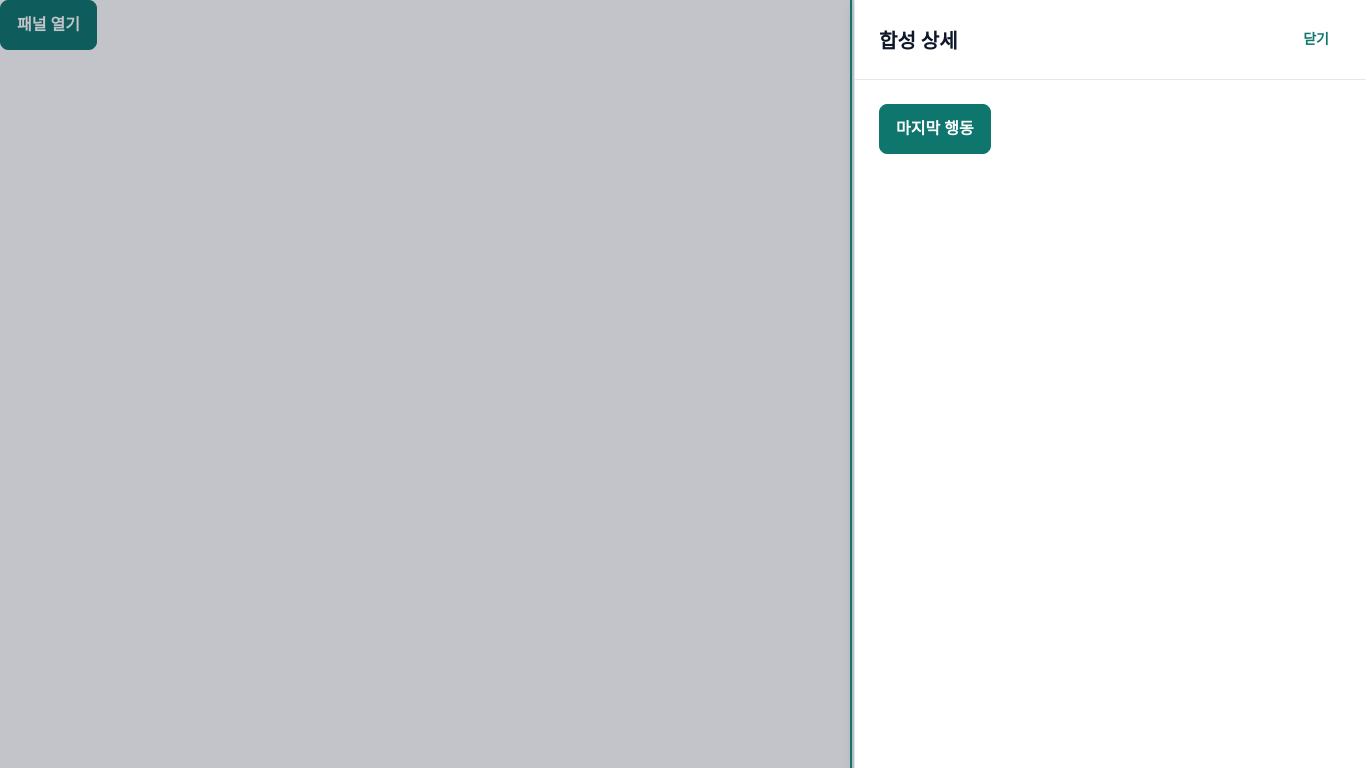
Scenario: focuses the open panel, traps Tab in both directions and restores its opener after Escape
Earlier steps of the test are not shown.
Press Tab in the dialog "합성 상세", box [854, 0, 1365, 767]
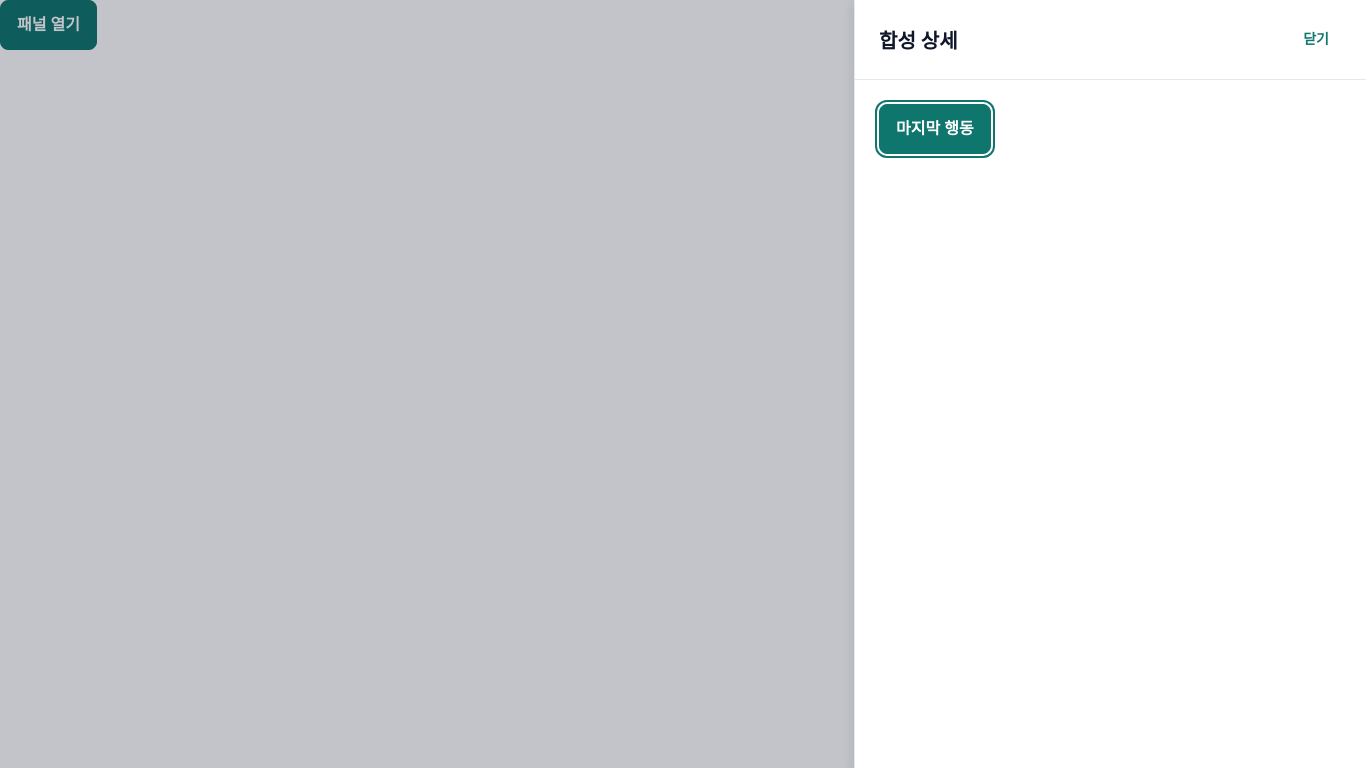
Press Tab in the button "마지막 행동", box [879, 104, 991, 154]
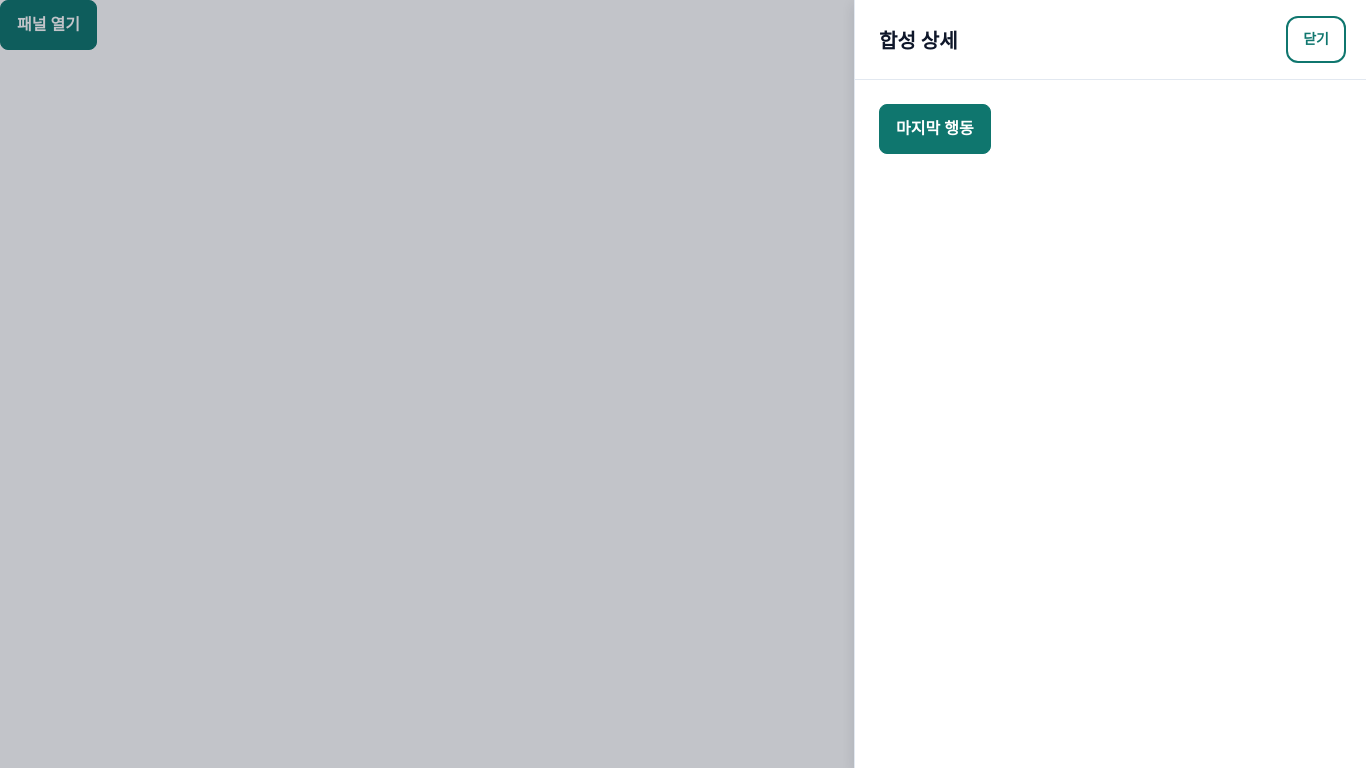
Press Tab in the button "닫기", box [1290, 20, 1342, 59]
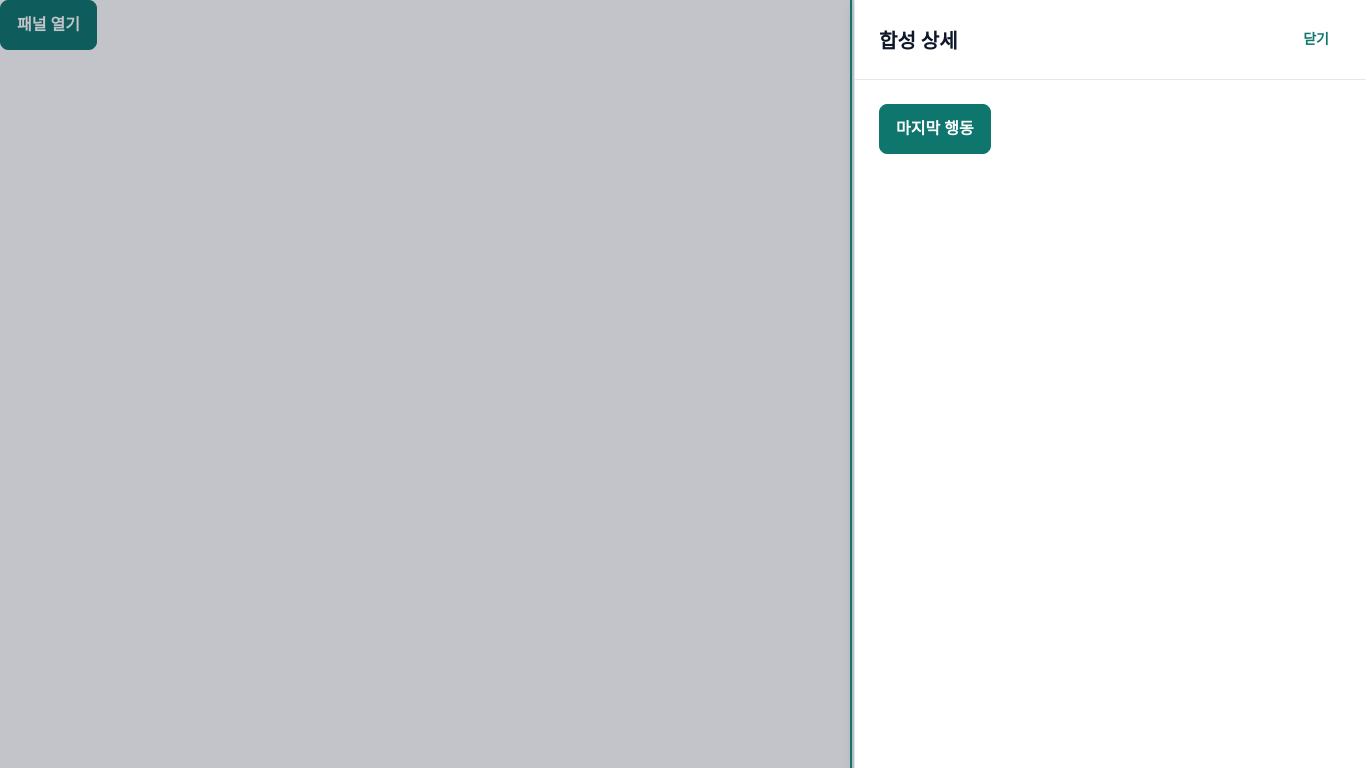
Press Escape in the dialog "합성 상세", box [854, 0, 1365, 767]
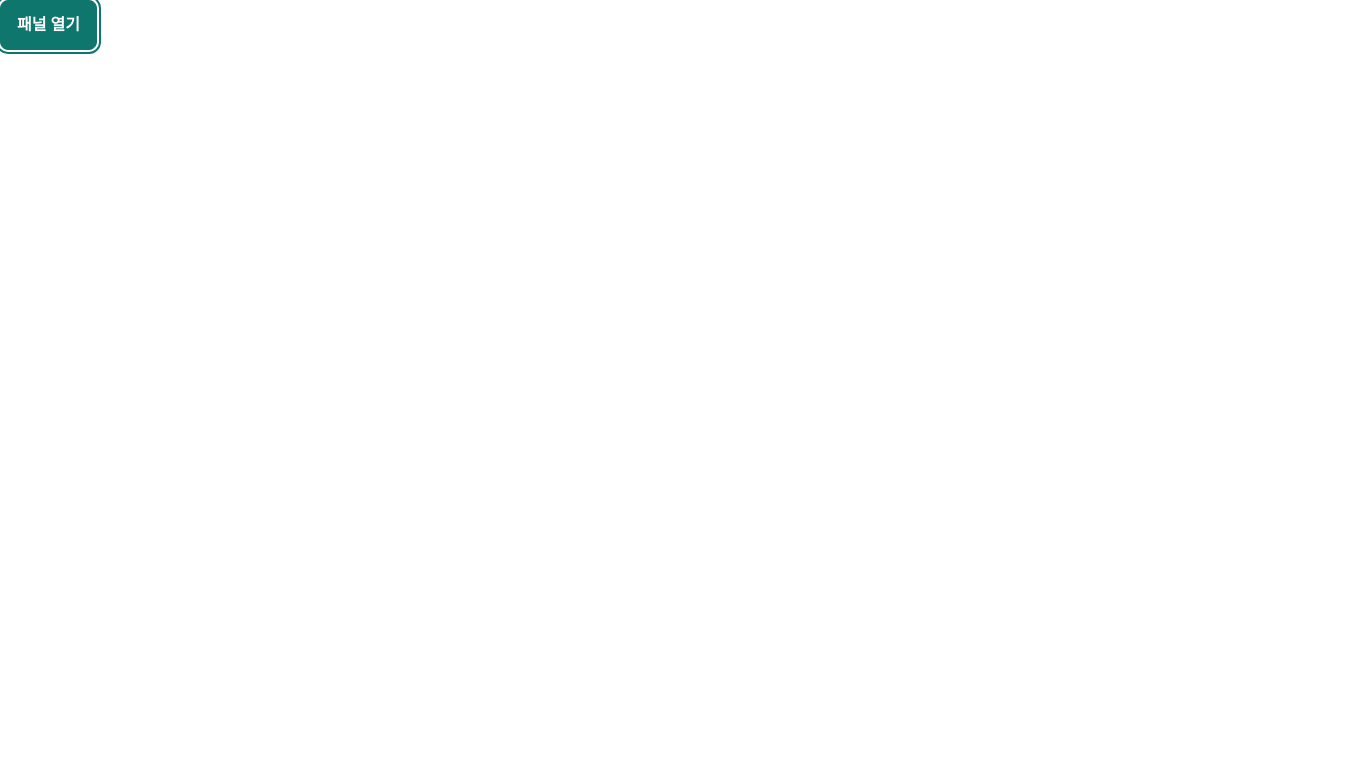
Check: the dialog is gone
Click the button "패널 열기": (48,25) [0, 0, 97, 50]
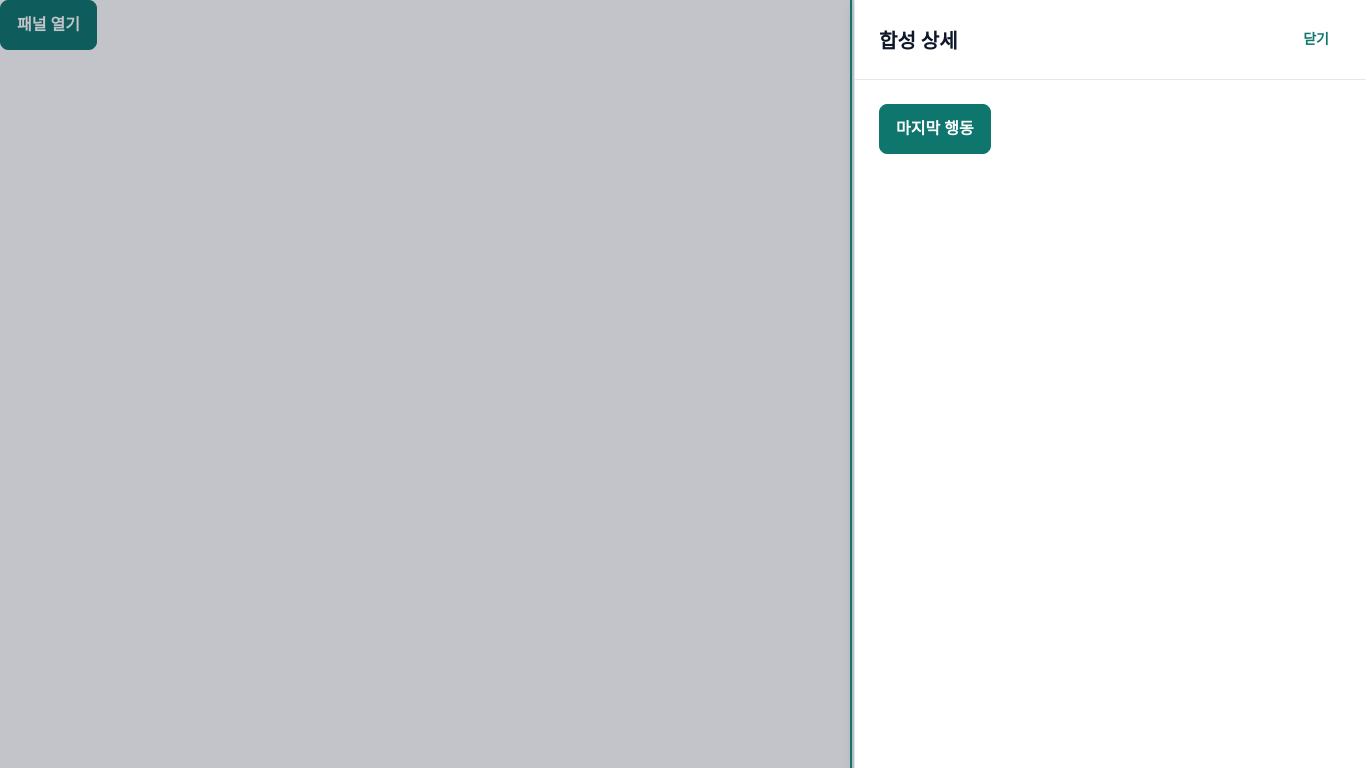
Click the button "닫기": (1316,40) [1290, 20, 1342, 59]
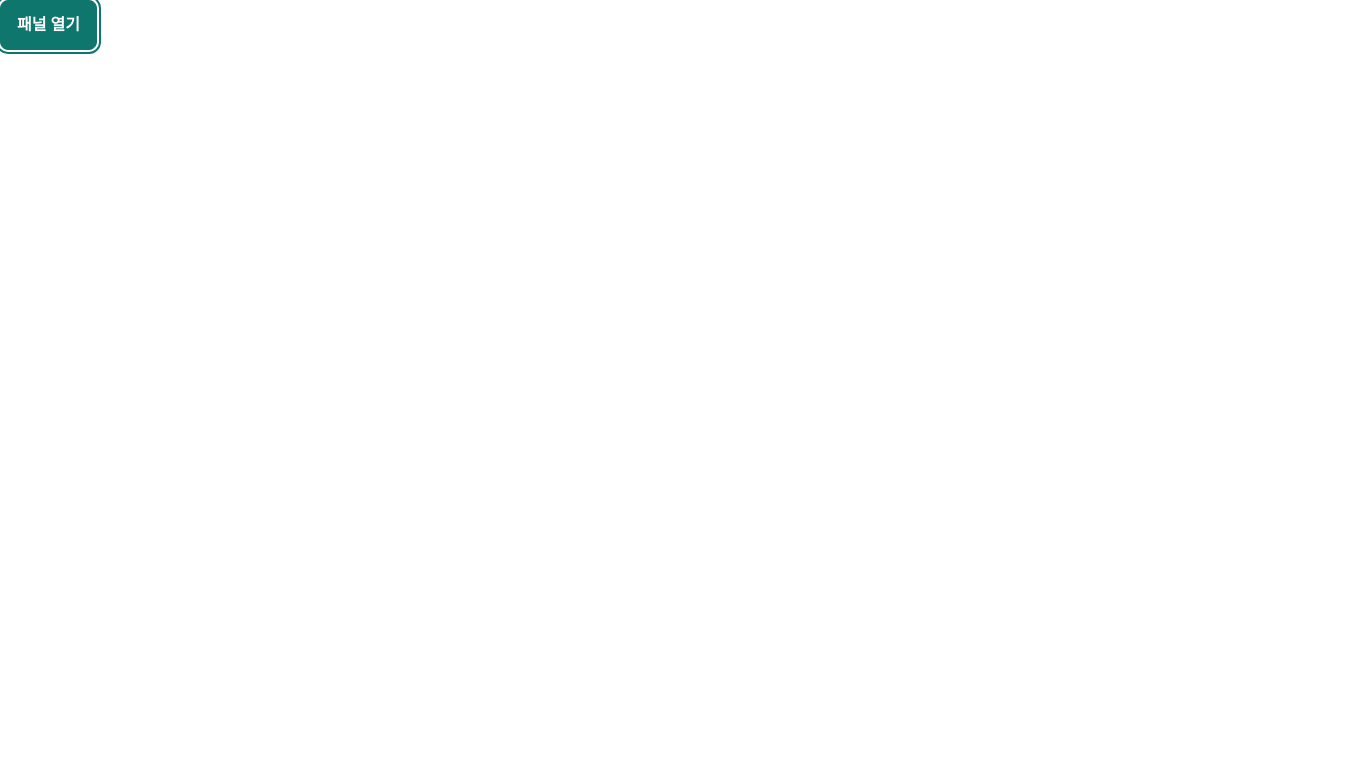
Check: the dialog is gone
